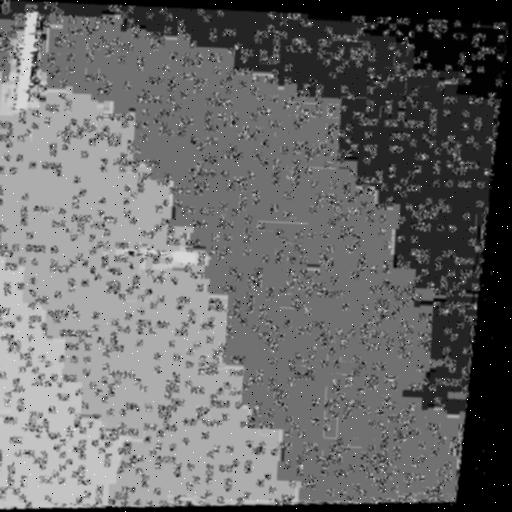balloon: (170, 253, 198, 269)
